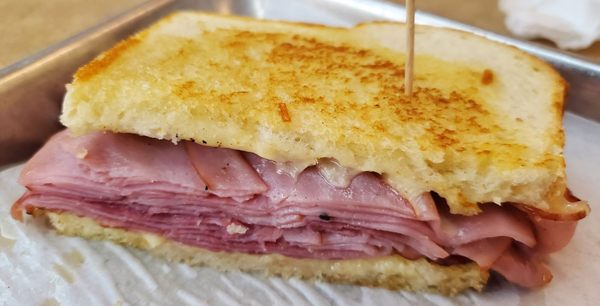pizza: (497, 0, 600, 51)
soup: (4, 11, 588, 299)
